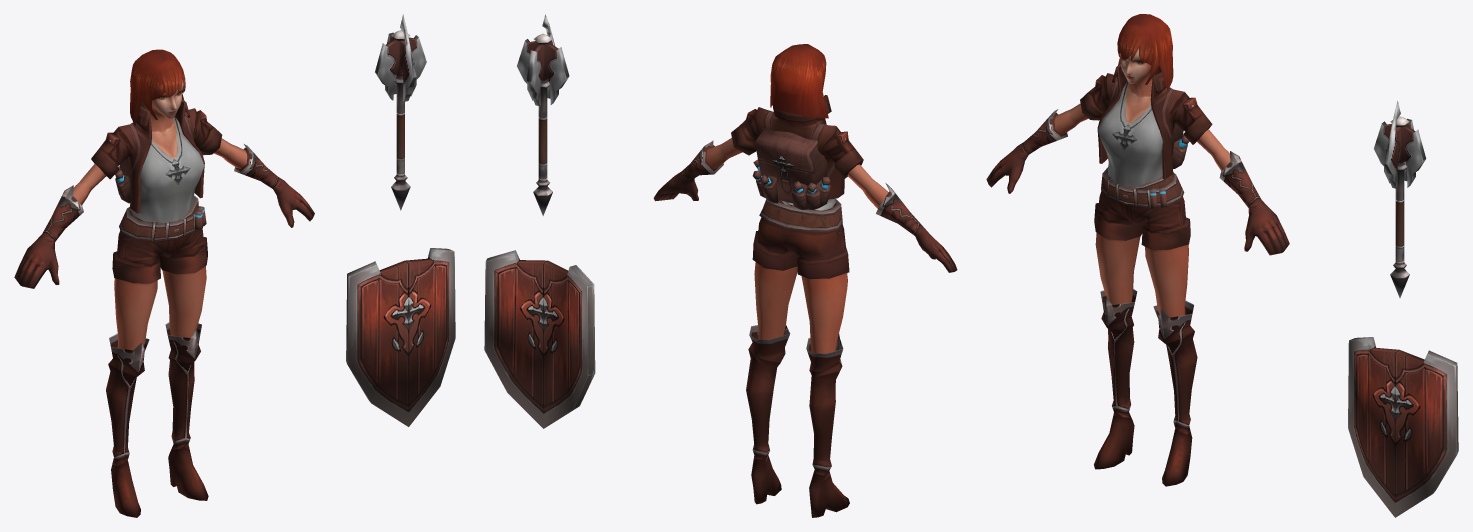
3 renders of one model, left to right at view 1: azimuth 30°, elevation 25°; view 2: azimuth 150°, elevation 25°; view 3: azimuth 330°, elevation 25°, orthographic.
Parts seen in each view (by area): view 1: Object128; view 2: Object128; view 3: Object128.
Boxes of the visible parts, left/top/right/bottom form: Object128: left=14, top=14, right=455, bottom=517; Object128: left=484, top=14, right=957, bottom=517; Object128: left=986, top=14, right=1458, bottom=517.
Bounding box in the file's own units: 1.82 × 1.73 × 0.2824.
1 material, 1 textured.
